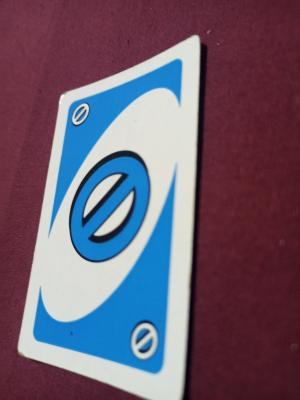blue: (65, 95, 170, 367)
skip: (126, 320, 162, 361), (69, 103, 91, 127)
